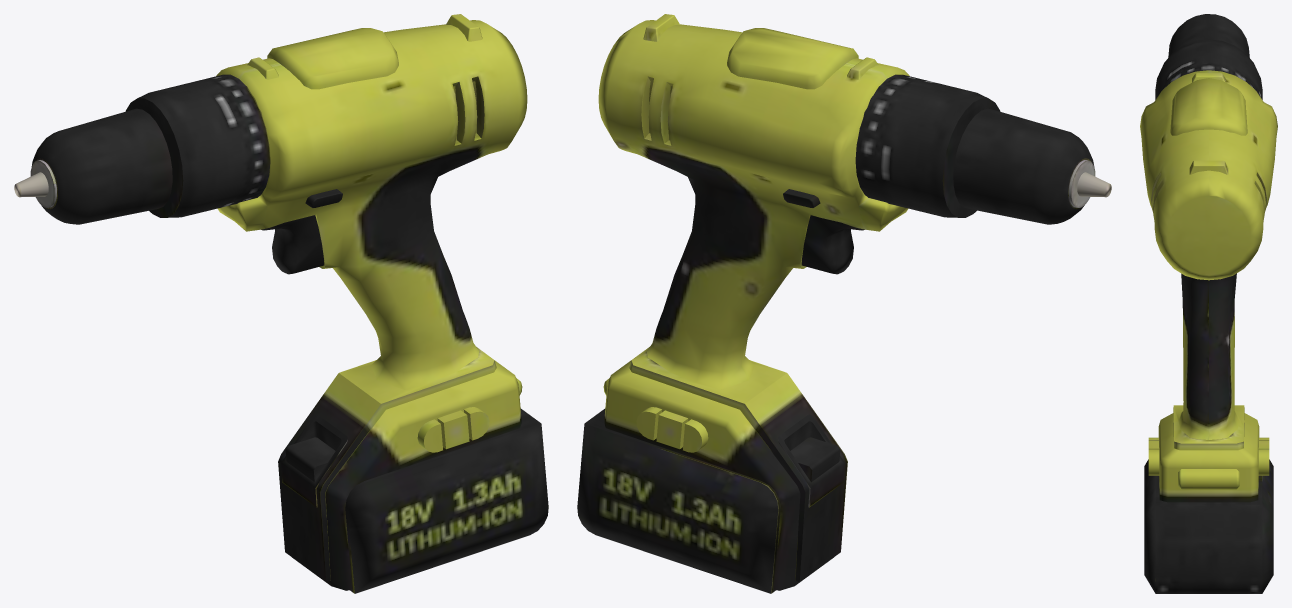
File: Drill_01.glb
3 views of the same model, side by side, from view 1: azimuth 30°, elevation 25°; view 2: azimuth 150°, elevation 25°; view 3: azimuth 270°, elevation 25° (orthographic). The views are drawn at different scales.
Visible parts, largest first — view 1: Drill_01; view 2: Drill_01; view 3: Drill_01.
Boxes of the visible parts, left/top/right/bottom form: Drill_01: left=14, top=14, right=548, bottom=593; Drill_01: left=577, top=14, right=1111, bottom=593; Drill_01: left=1140, top=14, right=1277, bottom=593.
Bounding box in the file's own units: 0.1829 × 0.1851 × 0.0524.
1 material, 1 textured.
